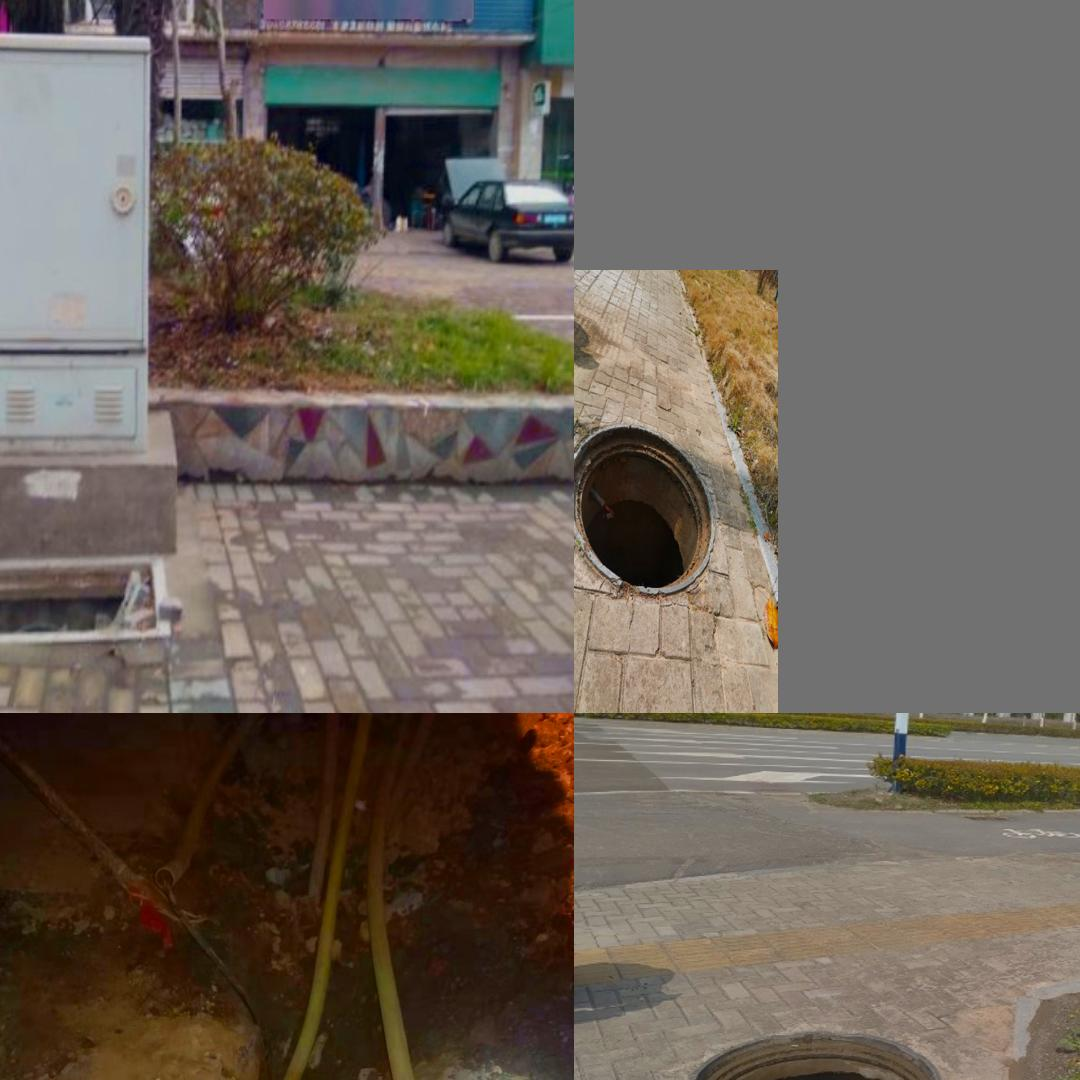lose: (574, 422, 715, 597), (0, 549, 170, 660), (683, 1031, 941, 1080), (14, 1068, 382, 1080)
